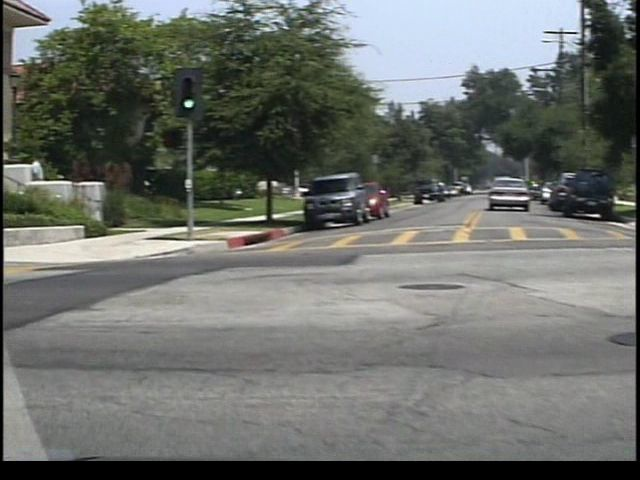person: (20, 153, 40, 214)
